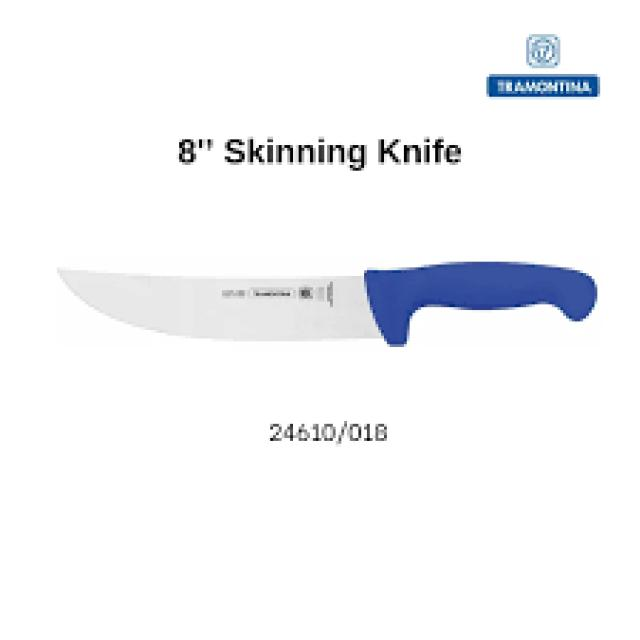Knife: (60, 259, 597, 347)
